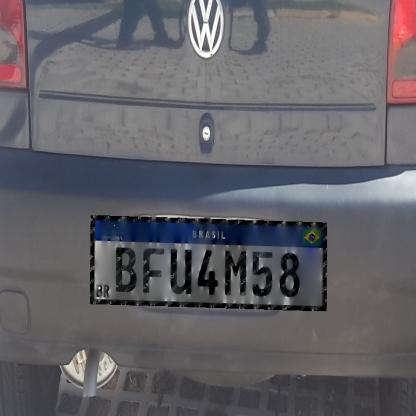PlacaM: (90, 215, 327, 311)
